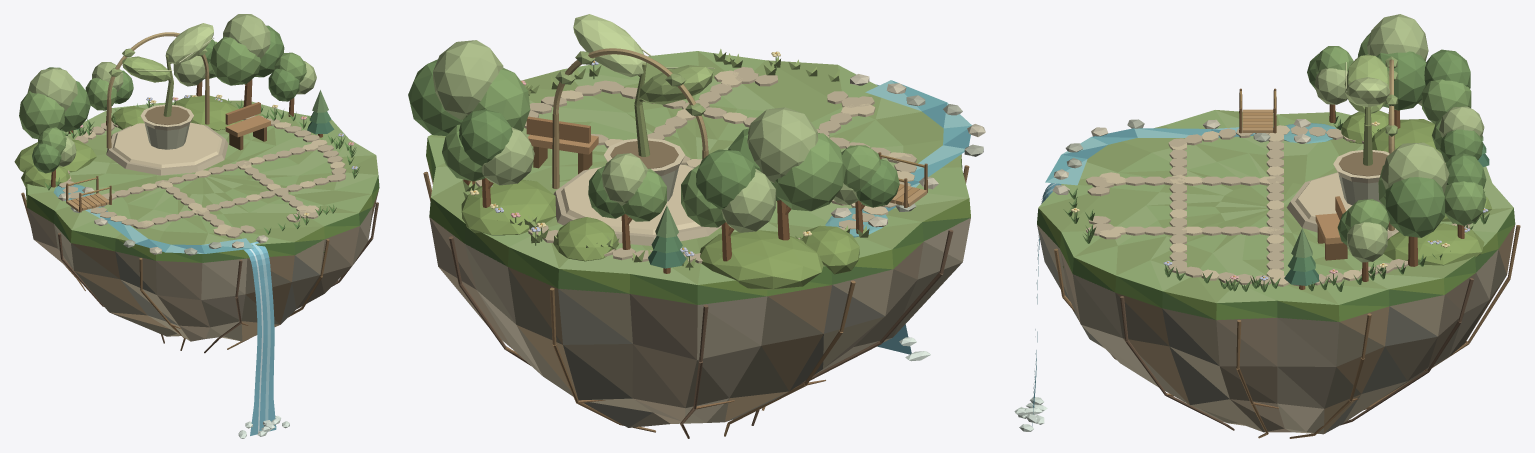
Rendered from island_generic_v2.glb.
3 renders of one model, left to right at view 1: azimuth 30°, elevation 25°; view 2: azimuth 150°, elevation 25°; view 3: azimuth 270°, elevation 25°, orthographic. The views are drawn at different scales.
Parts seen in each view (by area): view 1: SW15_generic_meadow, SW15_generic_cliff, SW15_generic_leaves, SW15_generic_stone, SW15_generic_water, SW15_generic_timber, SW15_generic_roots, SW15_generic_foam; view 2: SW15_generic_meadow, SW15_generic_cliff, SW15_generic_leaves, SW15_generic_stone, SW15_generic_timber, SW15_generic_roots, SW15_generic_water; view 3: SW15_generic_meadow, SW15_generic_cliff, SW15_generic_leaves, SW15_generic_stone, SW15_generic_roots, SW15_generic_timber, SW15_generic_water, SW15_generic_foam.
Part boxes in pixels (x1,y1,x2,y2): SW15_generic_meadow: (14, 95, 379, 262); SW15_generic_cliff: (27, 190, 378, 341); SW15_generic_leaves: (19, 14, 359, 252); SW15_generic_stone: (58, 104, 346, 255); SW15_generic_water: (53, 184, 276, 435); SW15_generic_timber: (50, 32, 322, 212); SW15_generic_roots: (21, 37, 378, 353); SW15_generic_foam: (238, 249, 289, 438); SW15_generic_meadow: (426, 51, 970, 304); SW15_generic_cliff: (427, 161, 970, 427); SW15_generic_leaves: (408, 14, 899, 270); SW15_generic_stone: (476, 67, 985, 263); SW15_generic_timber: (463, 48, 927, 273); SW15_generic_roots: (423, 48, 969, 438); SW15_generic_water: (825, 80, 971, 354); SW15_generic_meadow: (1037, 110, 1515, 321); SW15_generic_cliff: (1037, 224, 1515, 434); SW15_generic_leaves: (1063, 14, 1489, 292); SW15_generic_stone: (1052, 119, 1470, 286); SW15_generic_roots: (1054, 62, 1520, 438); SW15_generic_timber: (1239, 59, 1464, 289); SW15_generic_water: (1032, 123, 1336, 426); SW15_generic_foam: (1014, 183, 1055, 431).
Size of the model in its own units: 9.23 by 8.41 by 10.03.
